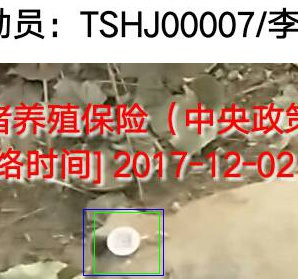text: (94, 212, 159, 273)
